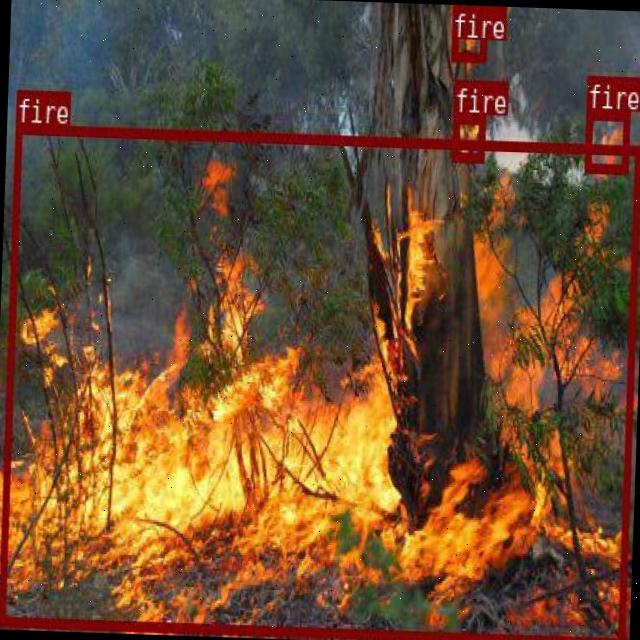fire: (0, 122, 639, 640), (584, 109, 628, 172), (448, 4, 485, 58), (451, 112, 484, 160)
